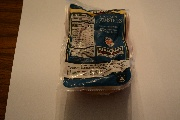chicken: (61, 1, 135, 93)
